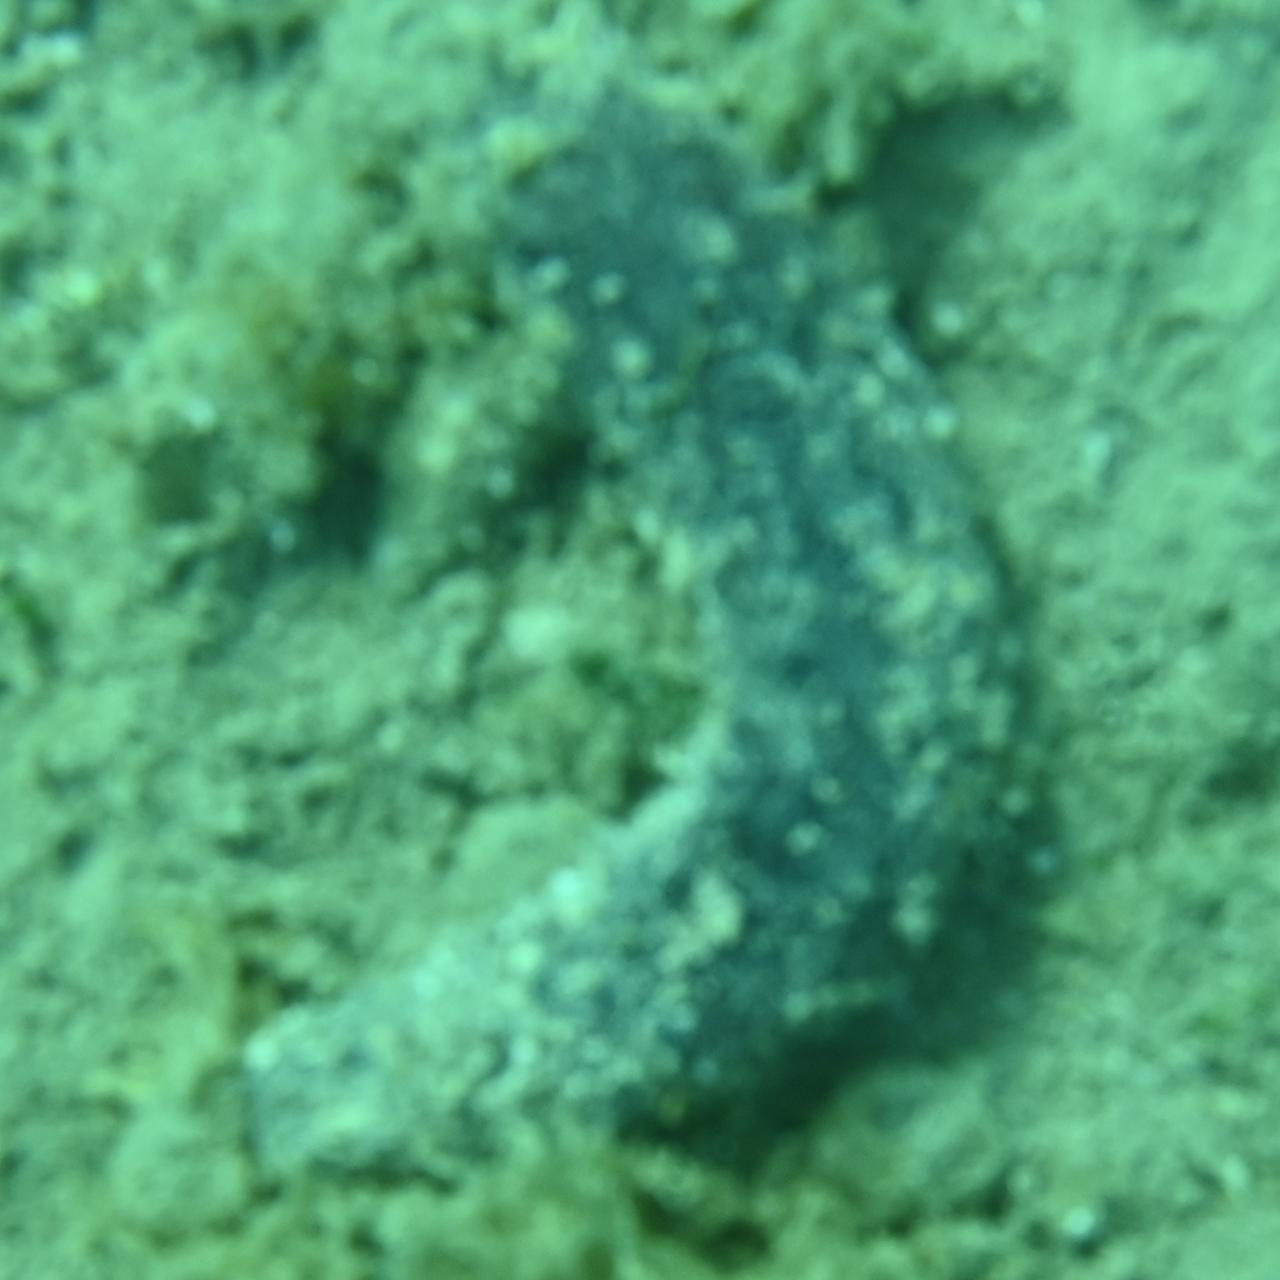Holothuria tubulosa: (186, 70, 1094, 1210)
